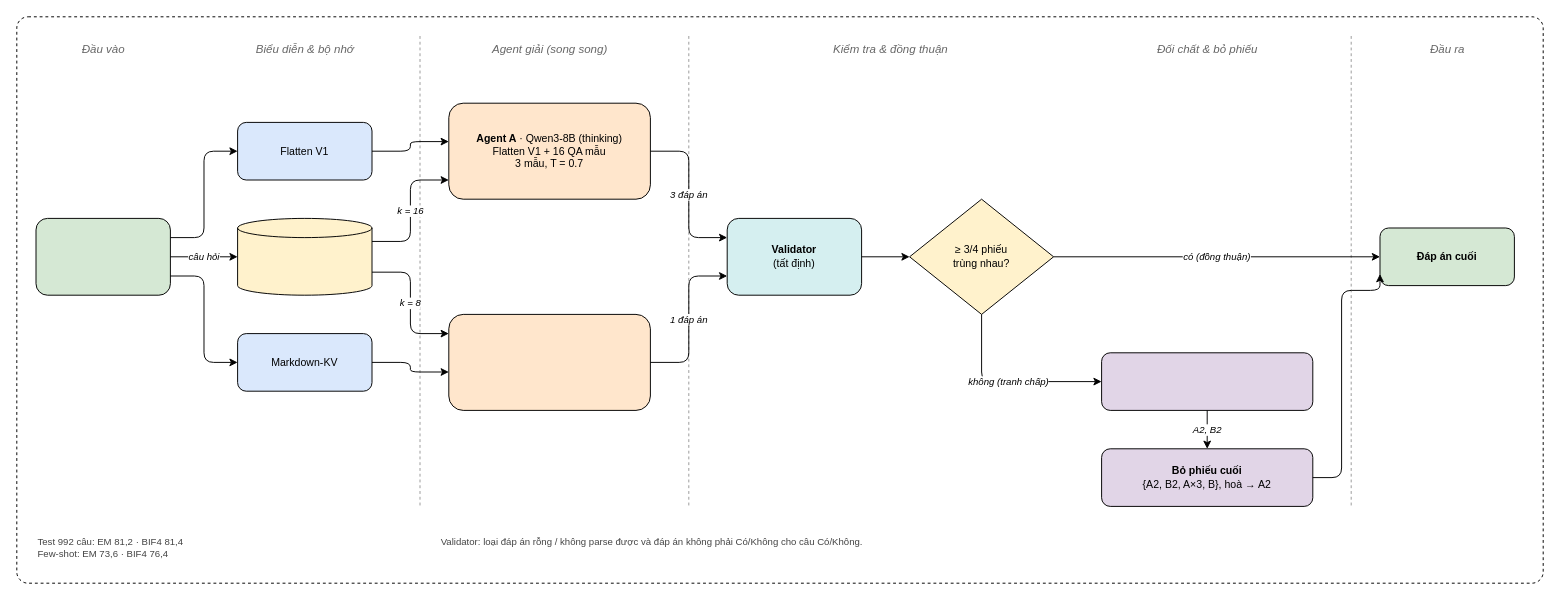
This 1560x600 diagram has some shape labels left out. Here are the shapes that lost their labels. From the top down, the box of each, then its label:
(35, 217, 170, 295): Câu hỏi + bảng HTML
(237, 217, 372, 295): Bộ nhớ cùng bảng QA train, Jaccard
(448, 313, 650, 410): Agent B · Qwen3-8B (thinking) Markdown-KV + 8 QA mẫu bằng chứng → đáp án
(1101, 352, 1313, 410): Đối chất 1 vòng A ⇄ B: giữ hoặc đổi
